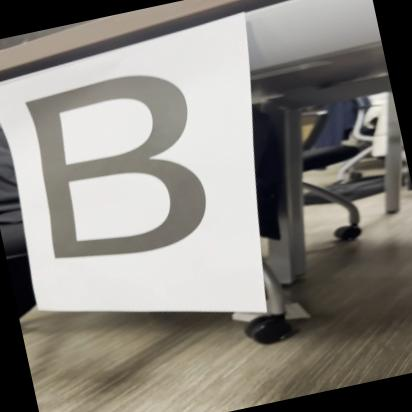seat: (8, 52, 230, 282)
